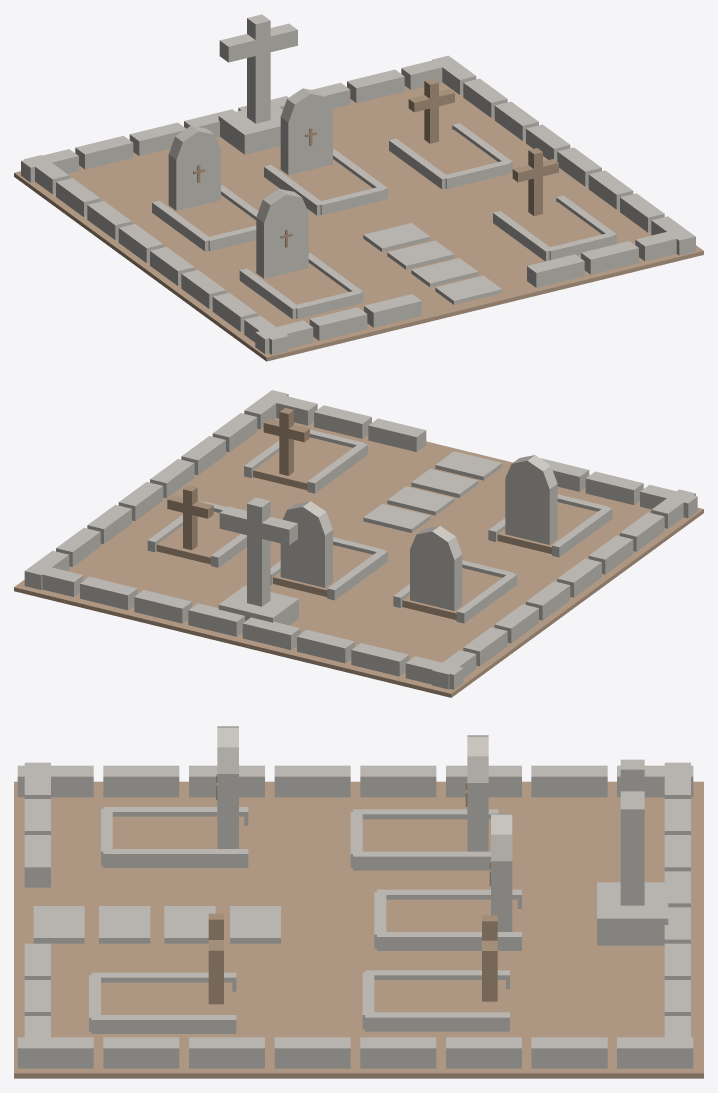
The model's file is grave-yard.glb.
3 renders of one model, top to bottom at view 1: azimuth 30°, elevation 25°; view 2: azimuth 150°, elevation 25°; view 3: azimuth 270°, elevation 25°, orthographic. The views are drawn at different scales.
Visible parts, largest first — view 1: grave-yard_stone, grave-yard_soil, grave-yard_wood; view 2: grave-yard_stone, grave-yard_soil, grave-yard_wood; view 3: grave-yard_soil, grave-yard_stone, grave-yard_wood.
Boxes of the visible parts, x1,y1,x2,y2 form: grave-yard_stone: (21, 14, 695, 354); grave-yard_soil: (14, 82, 703, 361); grave-yard_wood: (193, 78, 558, 247); grave-yard_stone: (24, 390, 697, 689); grave-yard_soil: (14, 418, 703, 697); grave-yard_wood: (167, 408, 309, 549); grave-yard_soil: (14, 781, 703, 1078); grave-yard_stone: (17, 726, 693, 1068); grave-yard_wood: (208, 774, 497, 1004).
Size of the model in its own units: 1.93 by 0.52 by 1.93.
